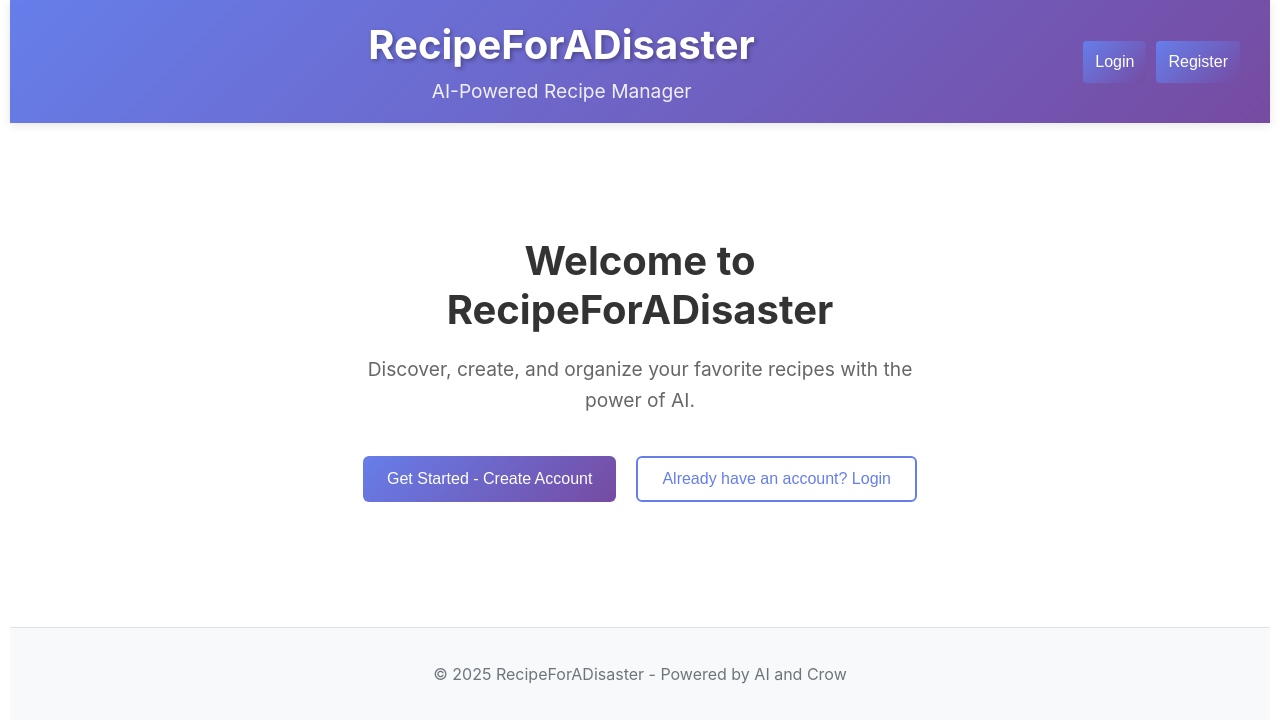
Scenario: Authentication Integration Tests › Complete Authentication Flow › handles authentication errors gracefully
Expected: the heading "Welcome to RecipeForADisaster" is shown, [447,236,833,334]
// Click login button
Click the button "Already have an account? Login" at (777, 479), box [636,456,917,502]
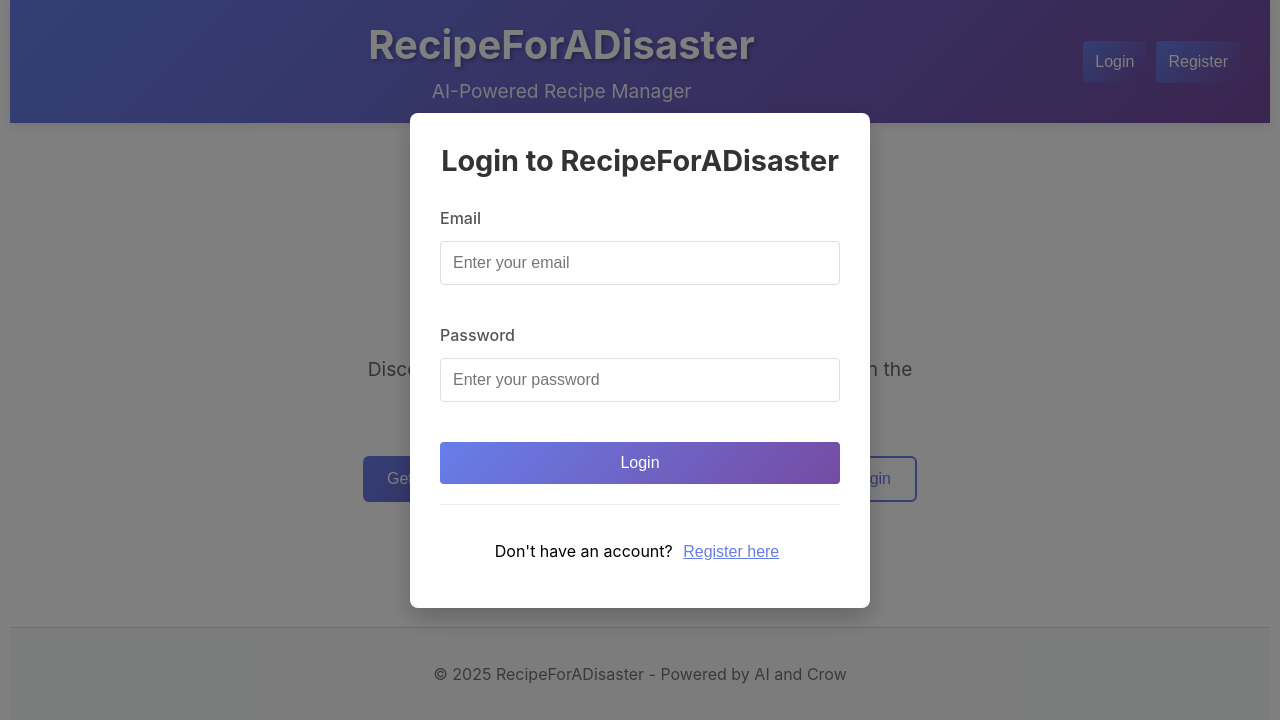
// Fill out login form with wrong credentials
Type "wrong@example.com" into the field labelled "Email" at (640, 262), box [440,240,840,284]
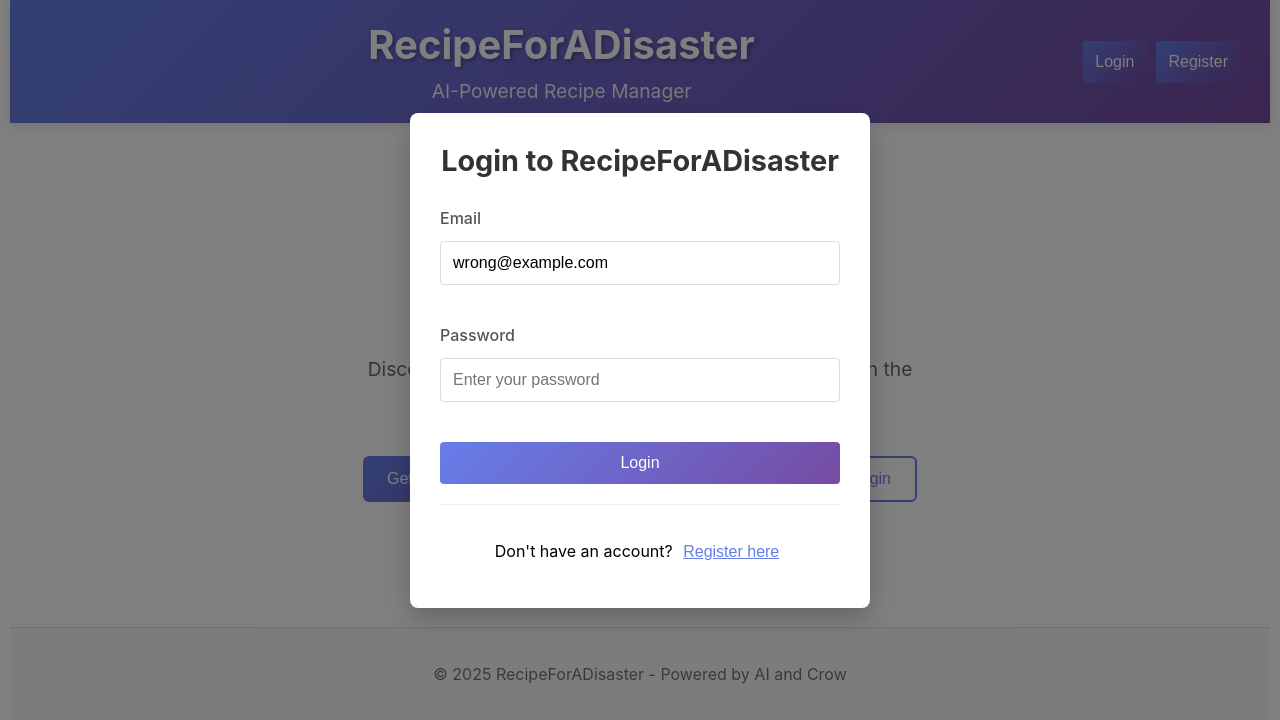
Type "wrongpassword" into the password field labelled "Password" at (640, 380), box [440,358,840,402]
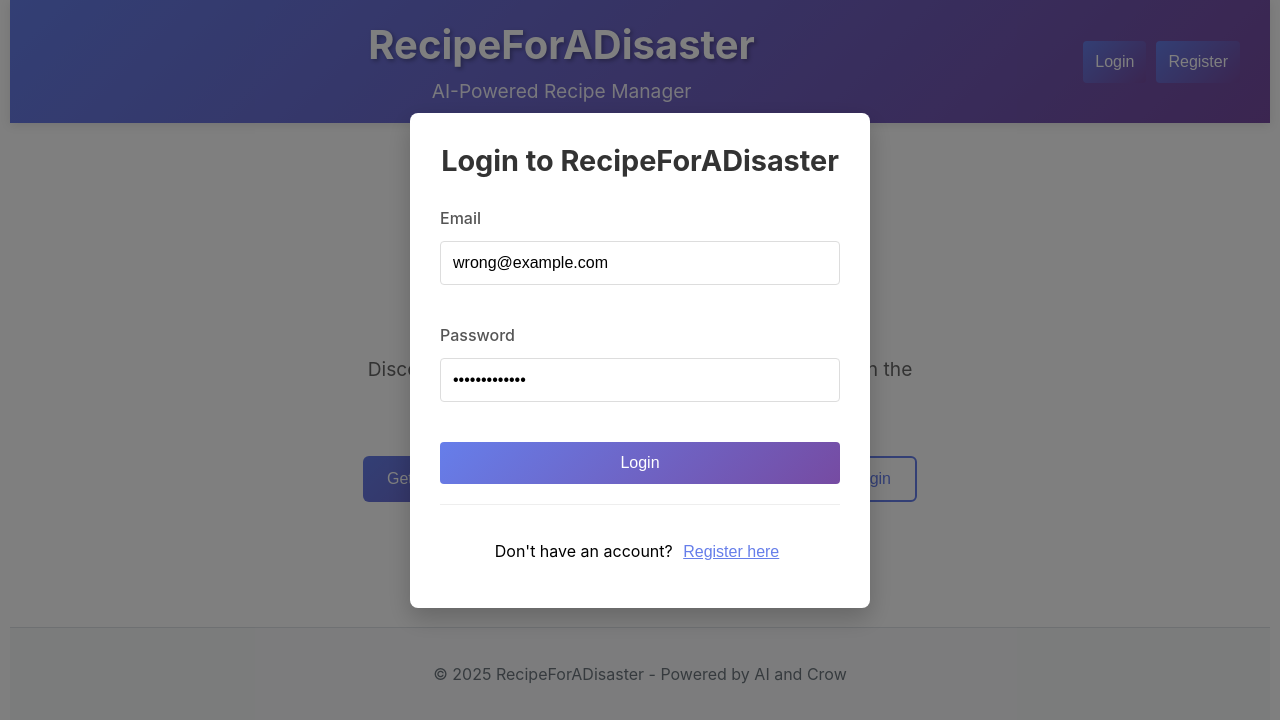
// Submit login
Click the button "Login" at (640, 462), box [440,442,840,484]
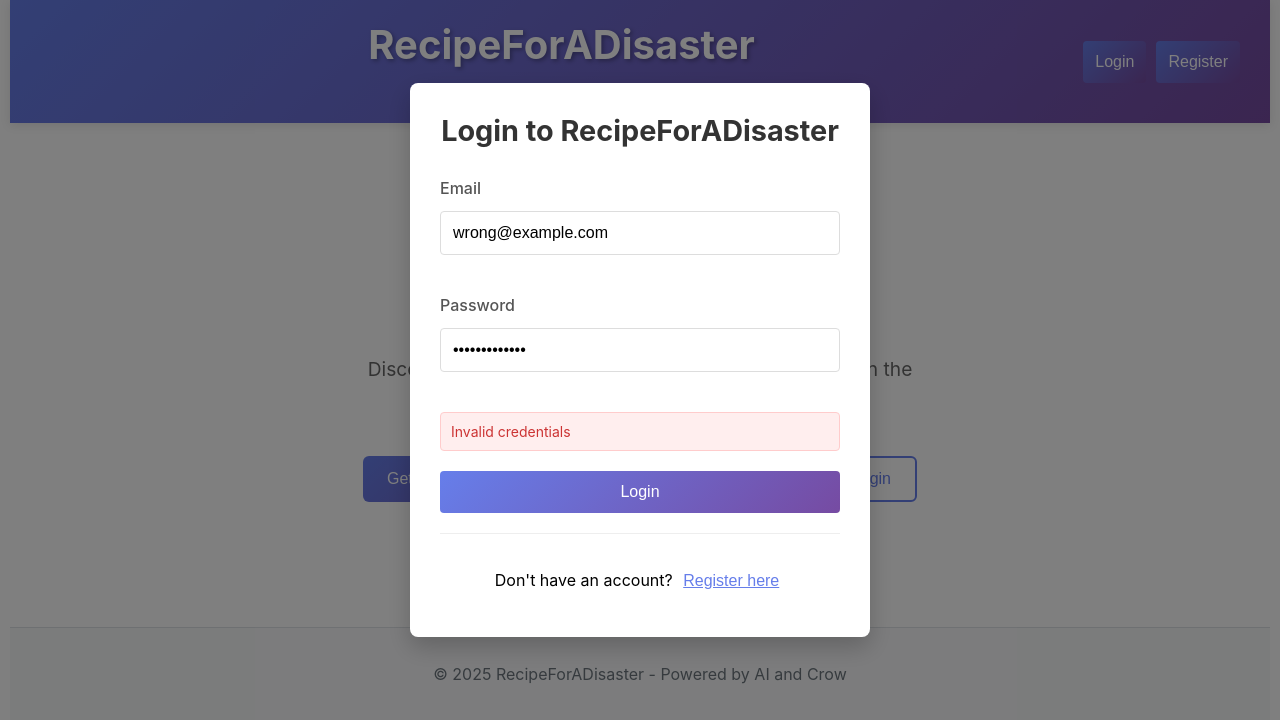
Expected: the heading "Login to RecipeForADisaster" is shown, [440,113,840,148]
Expected: the text "Invalid credentials" is shown, [451,423,571,440]
